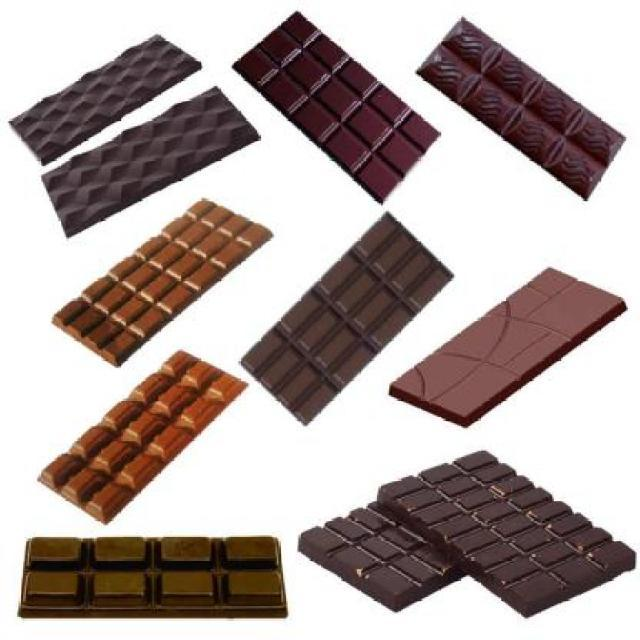Chocolate bar packaged: (238, 211, 453, 426), (374, 450, 640, 619), (413, 12, 630, 208), (384, 264, 630, 432), (33, 348, 249, 526), (49, 198, 274, 366), (40, 82, 263, 242), (7, 32, 204, 168), (15, 530, 288, 622)
